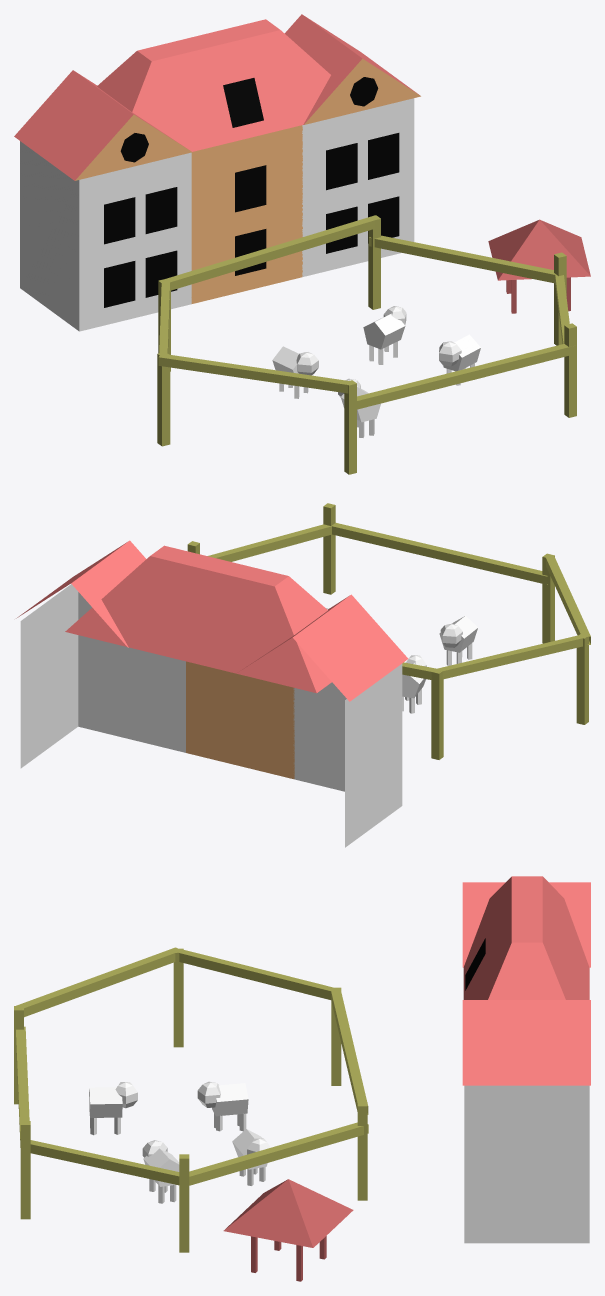
File: blood_manor.fbx
3 views of the same model, one above another, from view 1: azimuth 30°, elevation 25°; view 2: azimuth 150°, elevation 25°; view 3: azimuth 270°, elevation 25° (orthographic). The views are drawn at different scales.
Visible parts, largest first — view 1: manor; view 2: manor; view 3: manor.
Part boxes in pixels (bbox=[...]): manor: bbox=[14, 14, 590, 474]; manor: bbox=[16, 503, 590, 847]; manor: bbox=[14, 876, 590, 1281].
Size of the model in its own units: 75.49 by 34.8 by 73.25.
